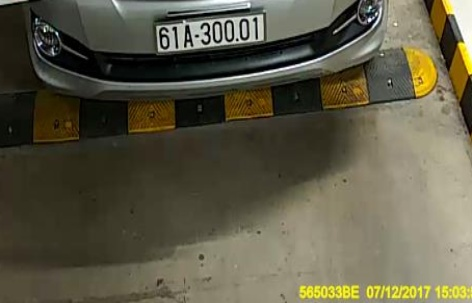plate: (155, 10, 282, 62)
